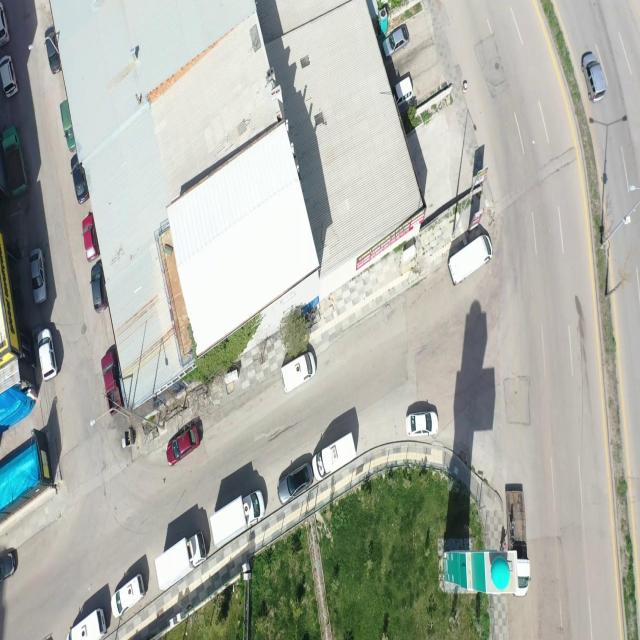p3rson: (501, 536, 506, 552)
